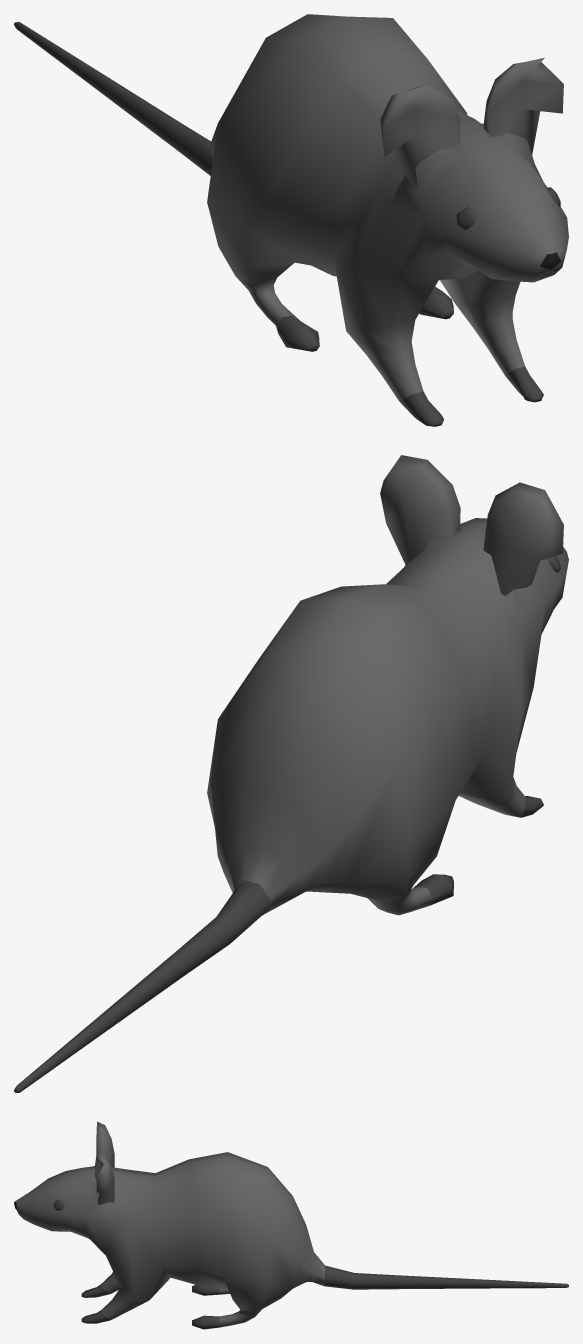
The model's file is Mouse.fbx.
3 renders of one model, top to bottom at view 1: azimuth 30°, elevation 25°; view 2: azimuth 150°, elevation 25°; view 3: azimuth 270°, elevation 25°, orthographic. The views are drawn at different scales.
Parts seen in each view (by area): view 1: Mouse; view 2: Mouse; view 3: Mouse.
Boxes of the visible parts, x1,y1,x2,y2 form: Mouse: [14, 14, 568, 426]; Mouse: [14, 455, 568, 1092]; Mouse: [14, 1121, 568, 1329].
Size of the model in its own units: 2.74 by 4.14 by 12.25.
